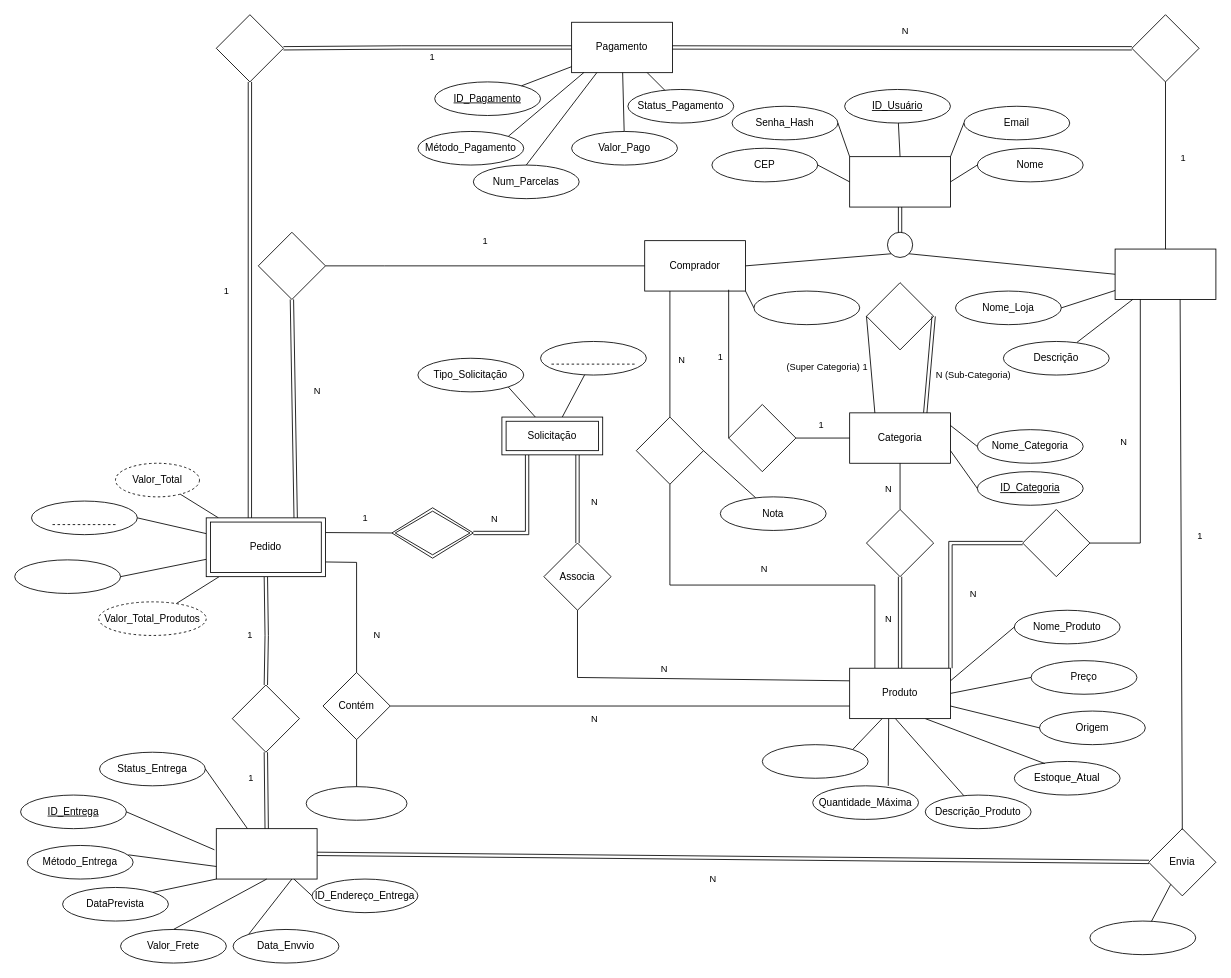
Some shapes in this 1231 by 978 pixel diagram are drawn without their labels. The centre of each missing label's shape, as x and y in pixels:
"AVALIA" belongs at point 669,450.
"Data_Novo" belongs at point 84,517.
"Data_Solicitação" belongs at point 593,358.
"Endereço" belongs at point 1142,937.
"Entrega" belongs at point 266,853.
"FAZ" belongs at point 291,265.
"ID_Produto" belongs at point 814,761.
"Num_Compras" belongs at point 806,307.
"Paga" belongs at point 249,48.
"PERTENCE" belongs at point 900,543.
"PRECISA" belongs at point 265,718.
"PREFERE" belongs at point 762,438.
"Quantidade" belongs at point 356,803.
"Recebe" belongs at point 1165,48.
"Status_Pedido" belongs at point 67,576.
"tem" belongs at point 432,532.
"Usuario" belongs at point 899,181.
"VENDE" belongs at point 1056,543.
"Vendedor" belongs at point 1165,273.
"É PAI DE" belongs at point 900,316.
